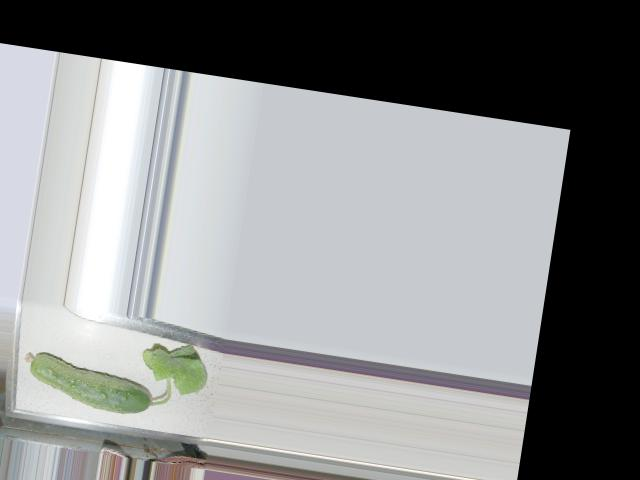cucumber: (18, 350, 157, 417)
